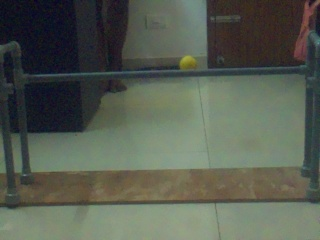ball: (179, 55, 197, 69)
